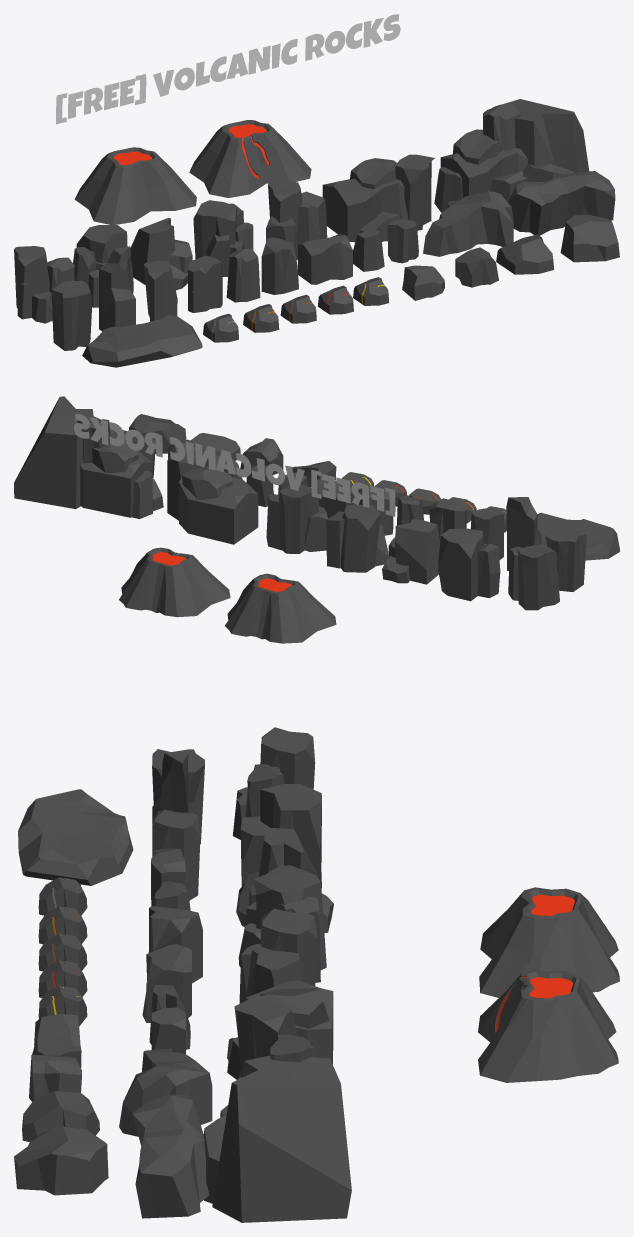
File: Lowpoly_Cliff_Rocks.fbx
3 renders of one model, top to bottom at view 1: azimuth 30°, elevation 25°; view 2: azimuth 150°, elevation 25°; view 3: azimuth 270°, elevation 25°, orthographic. The views are drawn at different scales.
Parts seen in each view (by area): view 1: Cliff_07, Cliff_06, Text.001_Text, Plane.003_Plane.005, Plane.004, Cliff_Rock_11, Cliff_Rock_10, Rock_Floor_01, Cliff_01, Cliff_05, Cliff_04, Cliff_03 (+19 smaller); view 2: Cliff_07, Cliff_06, Text.001_Text, Plane.003_Plane.005, Plane.004, Cliff_02, Cliff_04, Cliff_05, Cliff_03, Cliff_01, Cliff_Rock_01, Rock_Floor_01 (+12 smaller); view 3: Cliff_07, Plane.004, Plane.003_Plane.005, Rock_Floor_01, Cliff_Rock_11, Cliff_06, Rock_04, Cliff_05, Cliff_02, Cliff_Rock_10, Cliff_04, Cliff_01 (+18 smaller).
Part boxes in pixels (box(x1,y1,x2,y2)): Cliff_07: box(434, 99, 589, 212); Cliff_06: box(322, 154, 434, 242); Text.001_Text: box(56, 14, 400, 124); Plane.003_Plane.005: box(74, 147, 196, 224); Plane.004: box(189, 120, 311, 197); Cliff_Rock_11: box(508, 171, 615, 235); Cliff_Rock_10: box(423, 191, 513, 256); Rock_Floor_01: box(82, 315, 202, 367); Cliff_01: box(14, 246, 74, 323); Cliff_05: box(266, 181, 327, 259); Cliff_04: box(193, 200, 253, 276); Cliff_03: box(130, 218, 192, 290); Cliff_07: box(14, 396, 163, 518); Cliff_06: box(167, 449, 258, 544); Text.001_Text: box(74, 414, 395, 516); Plane.003_Plane.005: box(225, 573, 336, 643); Plane.004: box(119, 547, 230, 617); Cliff_02: box(438, 528, 500, 601); Cliff_04: box(326, 504, 388, 572); Cliff_05: box(266, 484, 327, 553); Cliff_03: box(382, 519, 439, 584); Cliff_01: box(508, 544, 559, 610); Cliff_Rock_01: box(545, 527, 586, 591); Rock_Floor_01: box(537, 512, 619, 560); Cliff_07: box(203, 1034, 351, 1222); Plane.004: box(478, 970, 618, 1082); Plane.003_Plane.005: box(479, 887, 619, 997); Rock_Floor_01: box(18, 789, 133, 885); Cliff_Rock_11: box(132, 1094, 209, 1218); Cliff_06: box(227, 980, 333, 1079); Rock_04: box(14, 1126, 108, 1195); Cliff_05: box(239, 908, 317, 1003); Cliff_02: box(240, 784, 321, 888); Cliff_Rock_10: box(119, 1048, 212, 1136); Cliff_04: box(238, 865, 326, 982); Cliff_01: box(232, 727, 315, 839).
Bounding box in the file's own units: 9864 × 2590 × 6209.
Materials: 8 (7 with a texture image).
